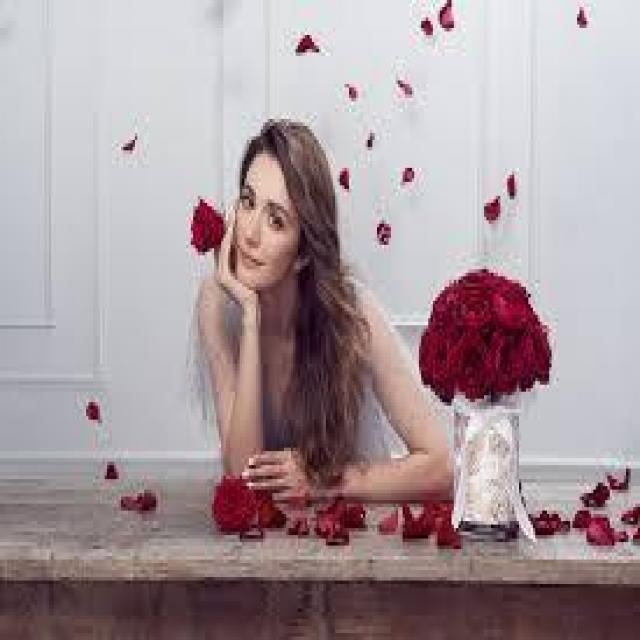organic waste: (417, 262, 563, 409), (179, 189, 228, 259), (210, 469, 258, 535)
